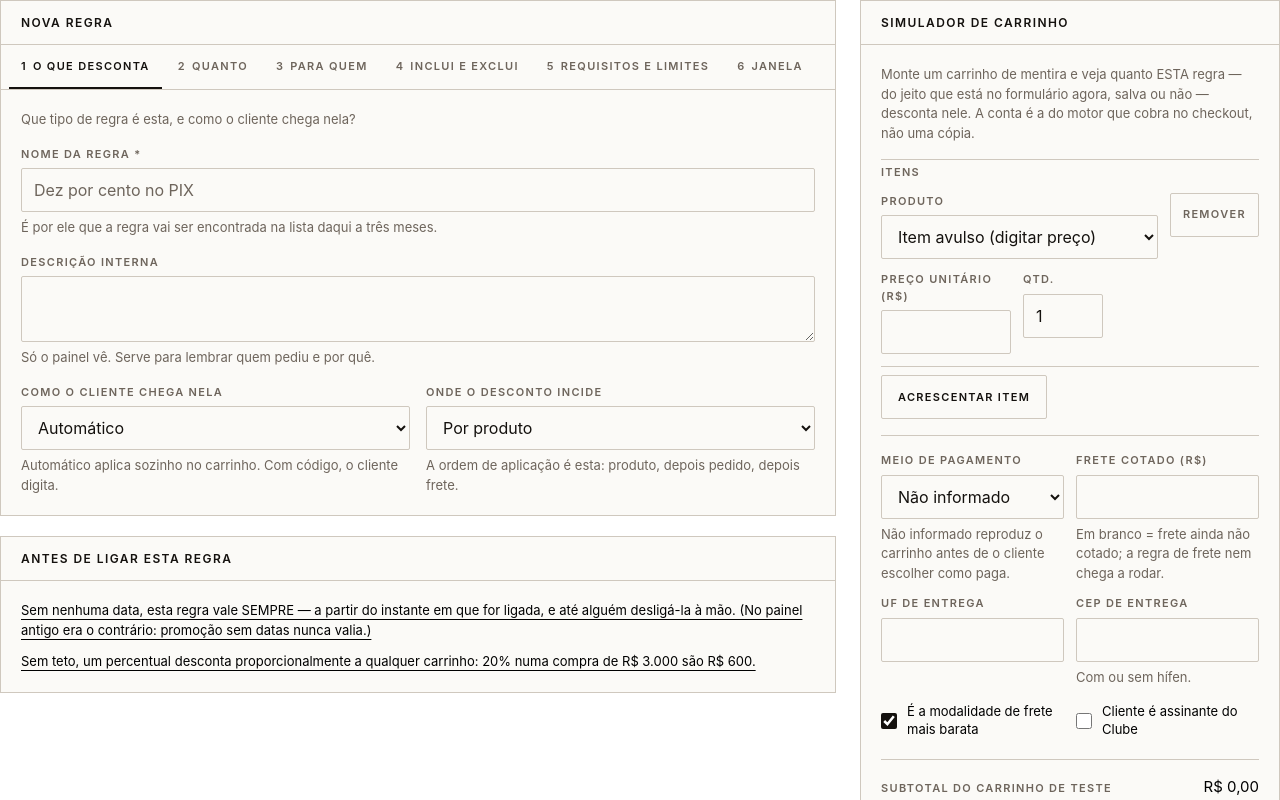
Test: a barra de salvar é contextual — R5 › nasce com a primeira tecla
The image size is (1280, 800).
Type "PIX" into the field labelled "Nome da regra *" at {"x": 418, "y": 190}, box [21, 168, 815, 212]
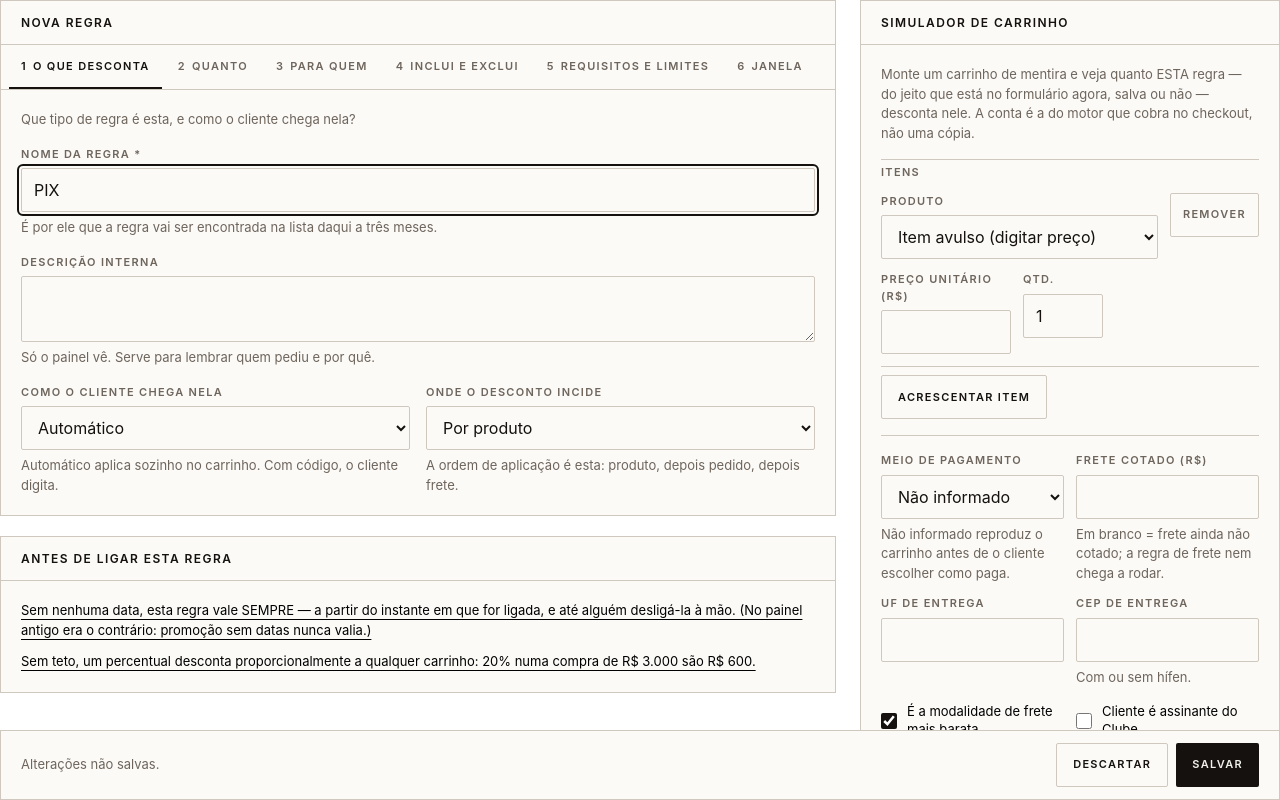
Result: the button "Salvar" is shown at [1176, 743, 1259, 787]
